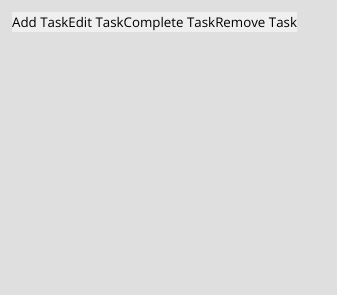
Scenario: Context: Task Provider › should remove a task, given the correct Id.
Check: the button "Remove Task" is shown, box 215,12 -> 297,32
Click the button "Add Task" at point(40, 22), box 12,12 -> 68,32
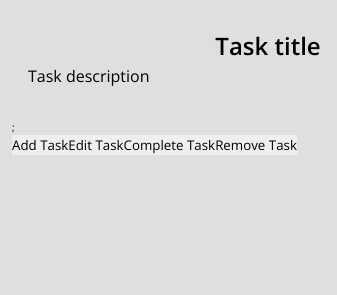
Click the button "Add Task" at point(40, 145), box 12,135 -> 68,155
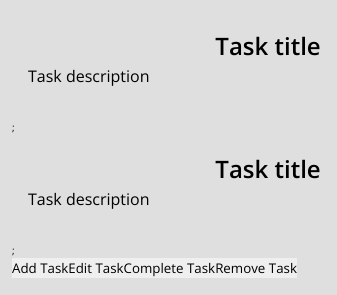
Check: the number of headings "Task title" is 2, box 215,28 -> 321,64; 215,151 -> 321,187
Click the button "Remove Task" at point(256, 268), box 215,258 -> 297,278
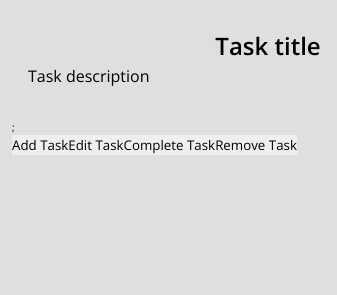
Check: the number of headings "Task title" is 1, box 215,28 -> 321,64
Click the button "Remove Task" at point(256, 145), box 215,135 -> 297,155
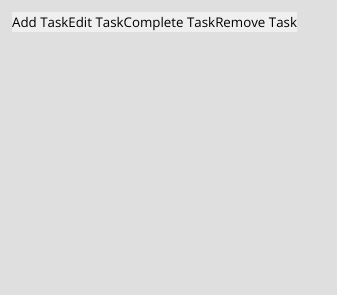
Check: no headings "Task title" are shown
